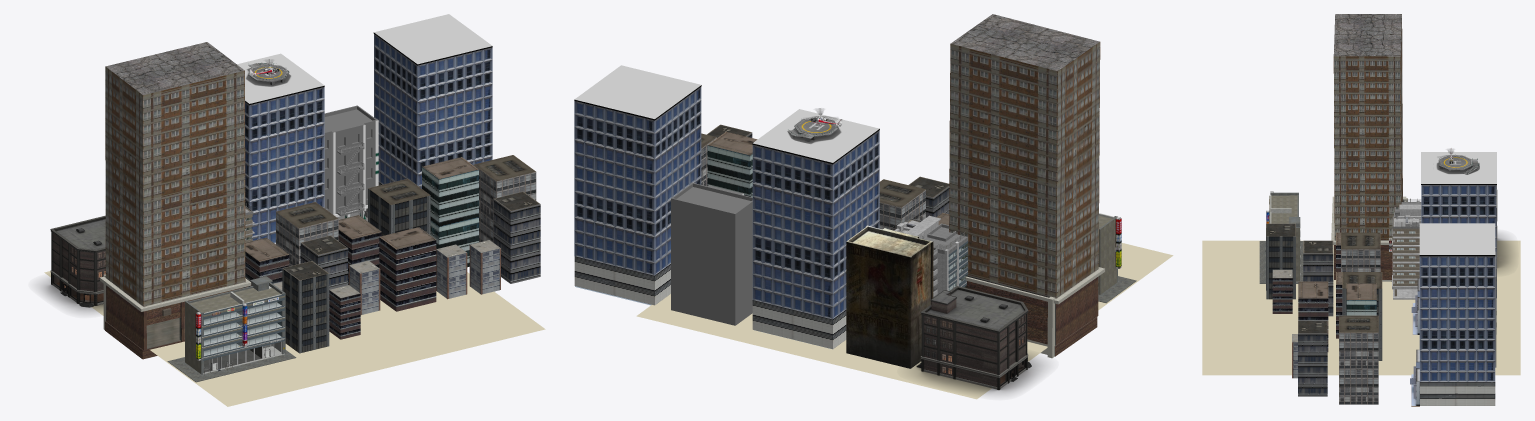
3 views of the same model, side by side, from view 1: azimuth 30°, elevation 25°; view 2: azimuth 150°, elevation 25°; view 3: azimuth 270°, elevation 25° (orthographic). The views are drawn at different scales.
Visible parts, largest first — view 1: Highrise 091, FG-2015-Offsim City Building low Poly (×13), Highrise 03 - 6 level, Highrise 03b - 6 level, Terrain 9,10, Caprica residental and commercial building, Terrain 8,10, _Fanatik Architecture_ California#4, City 15 Building low Poly Dummy, prim0-mesh (×3), _Fanatik Architecture_ California#3, HeliPad; view 2: Highrise 091, Highrise 03 - 6 level, Highrise 03b - 6 level, prim0-mesh#4, _Fanatik Architecture_ California#4, prim0-mesh (×7), FG-2015-Offsim City Building low Poly (×3), Terrain 8,11, Terrain 9,11, Caprica residental and commercial building, Terrain 8,10, HeliPad (+1 smaller); view 3: Highrise 091, FG-2015-Offsim City Building low Poly (×9), Highrise 03 - 6 level, Terrain 9,10, Highrise 03b - 6 level, Terrain 8,10, Terrain 9,11, Terrain 8,11, Caprica residental and commercial building, City 15 Building low Poly Dummy, HeliPad, prim0-mesh.
Part boxes in pixels (<box>): Highrise 091: <box>100,42,251,359</box>; FG-2015-Offsim City Building low Poly (×13): <box>245,155,540,353</box>; Highrise 03 - 6 level: <box>373,14,492,188</box>; Highrise 03b - 6 level: <box>237,53,324,243</box>; Terrain 9,10: <box>346,272,545,367</box>; Caprica residental and commercial building: <box>167,276,296,382</box>; Terrain 8,10: <box>150,332,386,406</box>; _Fanatik Architecture_ California#4: <box>324,105,378,221</box>; City 15 Building low Poly Dummy: <box>368,178,430,235</box>; prim0-mesh (×3): <box>40,219,105,312</box>; _Fanatik Architecture_ California#3: <box>337,141,364,216</box>; HeliPad: <box>248,62,289,85</box>; Highrise 091: <box>949,14,1104,358</box>; Highrise 03 - 6 level: <box>574,65,701,305</box>; Highrise 03b - 6 level: <box>752,109,879,348</box>; prim0-mesh#4: <box>846,225,933,368</box>; _Fanatik Architecture_ California#4: <box>671,182,752,325</box>; prim0-mesh (×7): <box>911,286,1045,394</box>; FG-2015-Offsim City Building low Poly (×3): <box>707,131,949,230</box>; Terrain 8,11: <box>807,340,1047,399</box>; Terrain 9,11: <box>636,294,821,357</box>; Caprica residental and commercial building: <box>1098,213,1136,303</box>; Terrain 8,10: <box>1098,243,1173,310</box>; HeliPad: <box>788,117,838,141</box>; Highrise 091: <box>1331,14,1407,281</box>; FG-2015-Offsim City Building low Poly (×9): <box>1266,223,1380,404</box>; Highrise 03 - 6 level: <box>1419,223,1495,405</box>; Terrain 9,10: <box>1202,308,1338,375</box>; Highrise 03b - 6 level: <box>1421,152,1496,334</box>; Terrain 8,10: <box>1202,240,1335,307</box>; Terrain 9,11: <box>1378,308,1520,375</box>; Terrain 8,11: <box>1382,240,1520,307</box>; Caprica residental and commercial building: <box>1259,192,1303,283</box>; City 15 Building low Poly Dummy: <box>1342,272,1382,360</box>; HeliPad: <box>1438,155,1478,174</box>; prim0-mesh: <box>1497,234,1512,271</box>.
Size of what is drawn, in the model's own units: 169 by 103 by 128.
229 materials, 220 textured.
